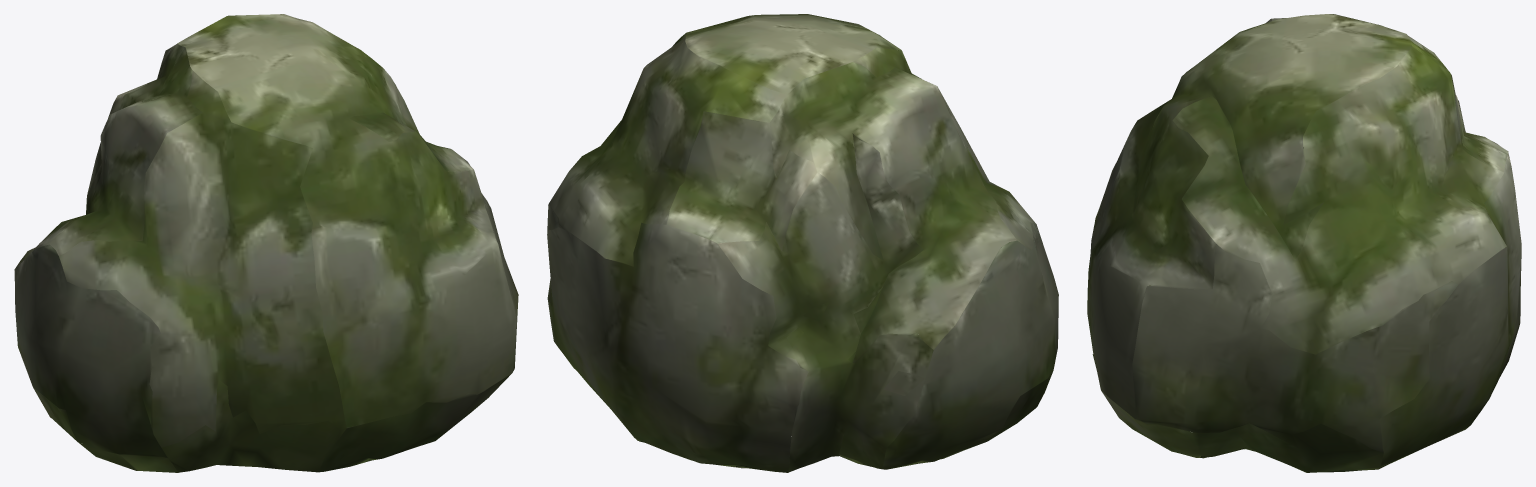
File: rock_a.glb
3 views of the same model, side by side, from view 1: azimuth 30°, elevation 25°; view 2: azimuth 150°, elevation 25°; view 3: azimuth 270°, elevation 25° (orthographic). The views are drawn at different scales.
Parts seen in each view (by area): view 1: geometry_0; view 2: geometry_0; view 3: geometry_0.
Part boxes in pixels (x1,y1,x2,y2): geometry_0: (14,14,518,472); geometry_0: (547,14,1058,472); geometry_0: (1087,14,1521,472).
Bounding box in the file's own units: 1 × 0.7707 × 0.8527.
Materials: 1 (1 with a texture image).
